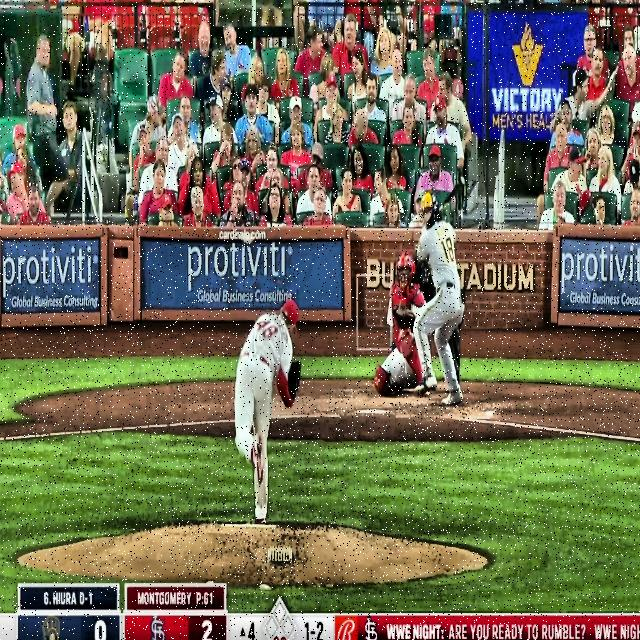baseball: (241, 230, 254, 248)
